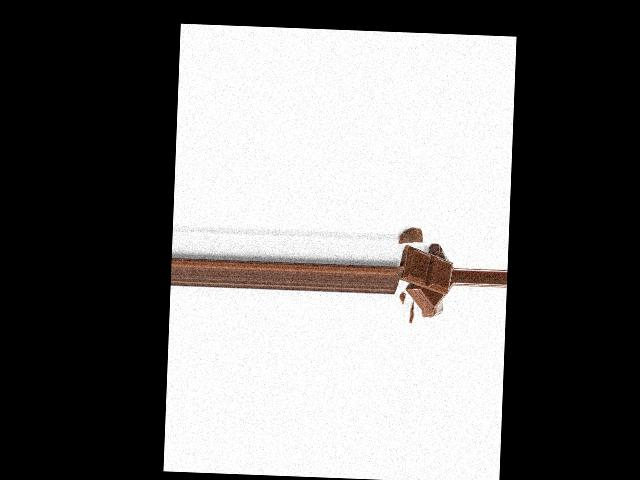chocolate: (400, 246, 451, 295)
